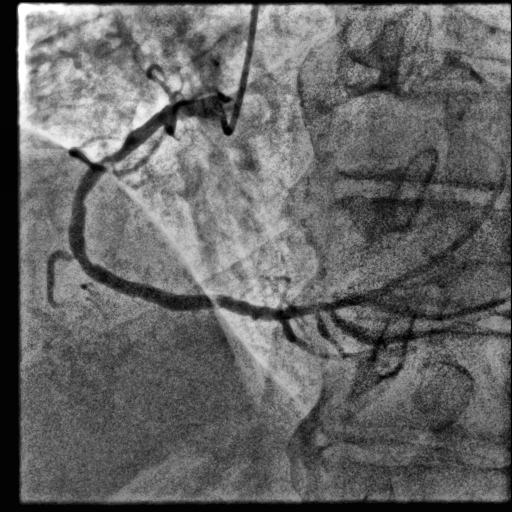pborca: (281, 157, 507, 318)
pda: (279, 320, 415, 360)
rca: (68, 95, 287, 321)
